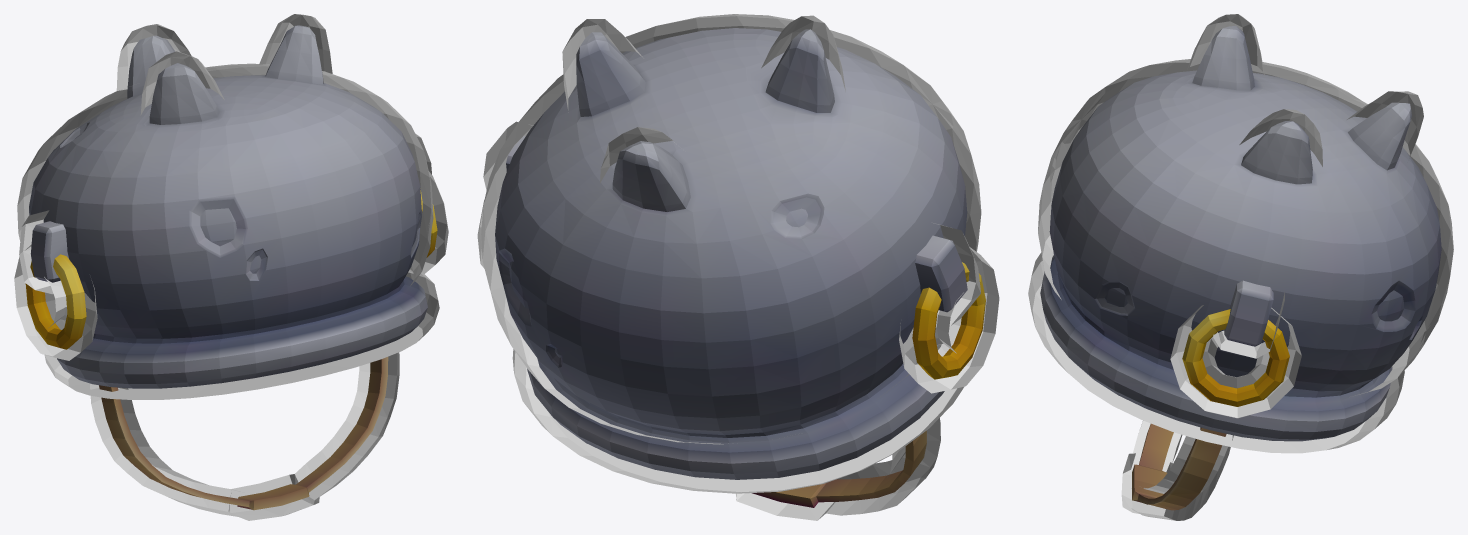
File: pickup_WitchHelmetAngela_outline_MESH.glb
3 renders of one model, left to right at view 1: azimuth 30°, elevation 25°; view 2: azimuth 150°, elevation 25°; view 3: azimuth 270°, elevation 25°, orthographic. The views are drawn at different scales.
Visible parts, largest first — view 1: WitchHelmetAngela_outline; view 2: WitchHelmetAngela_outline; view 3: WitchHelmetAngela_outline.
Boxes of the visible parts, bbox=[...] form: WitchHelmetAngela_outline: bbox=[14, 14, 448, 520]; WitchHelmetAngela_outline: bbox=[477, 14, 999, 520]; WitchHelmetAngela_outline: bbox=[1028, 14, 1453, 520].
Bounding box in the file's own units: 0.7 × 0.7573 × 0.6334.
